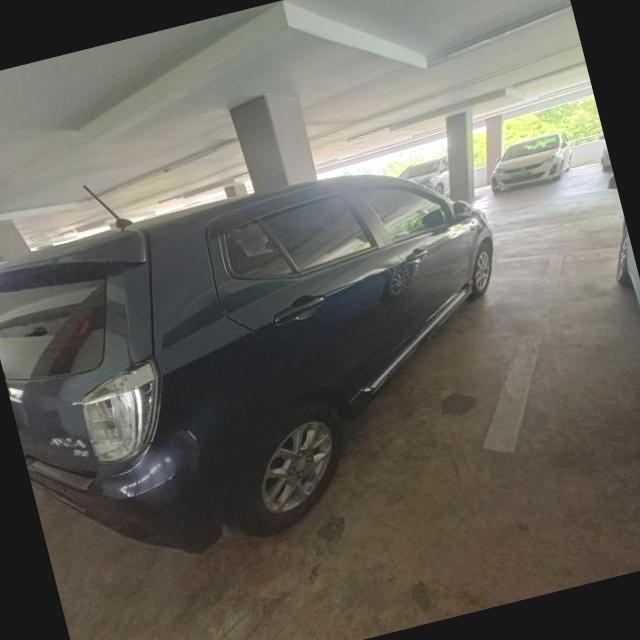PeroduaAxia: (0, 134, 552, 588)
